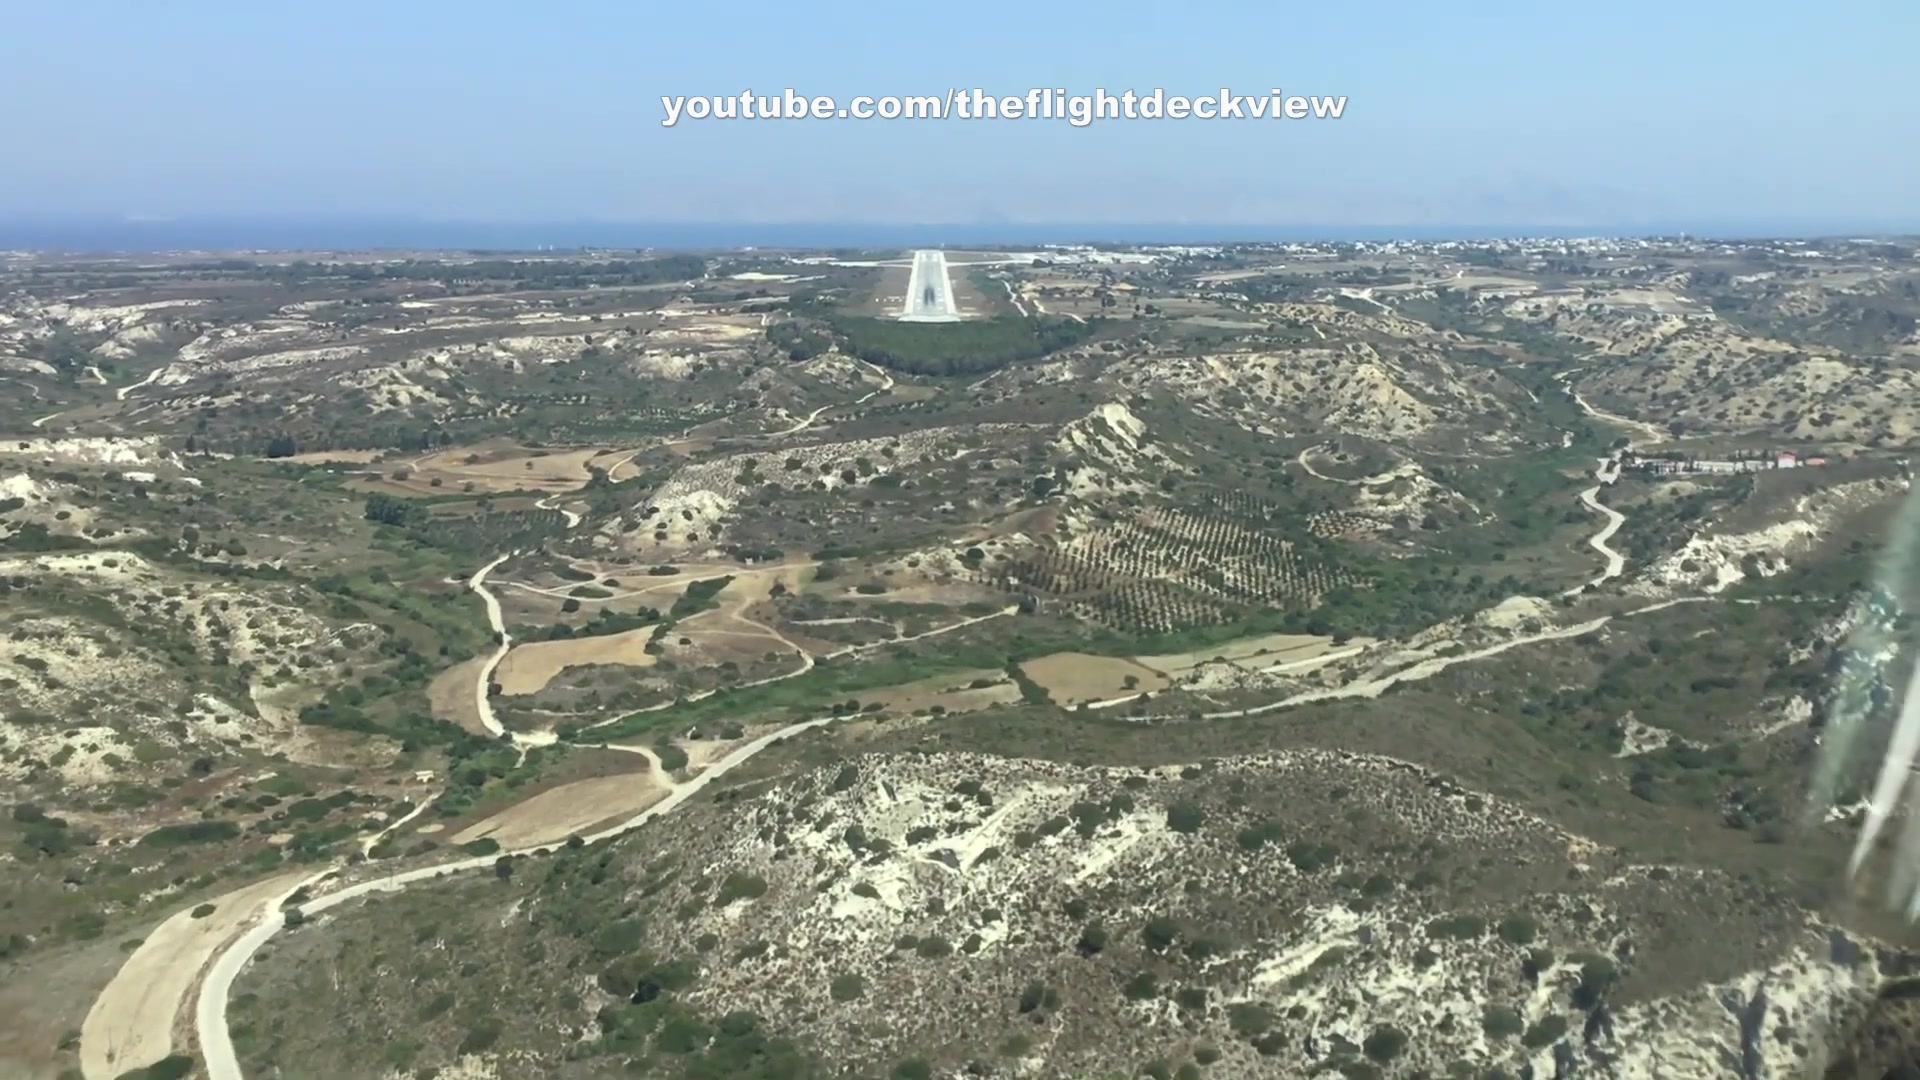runway: (905, 251, 955, 320)
